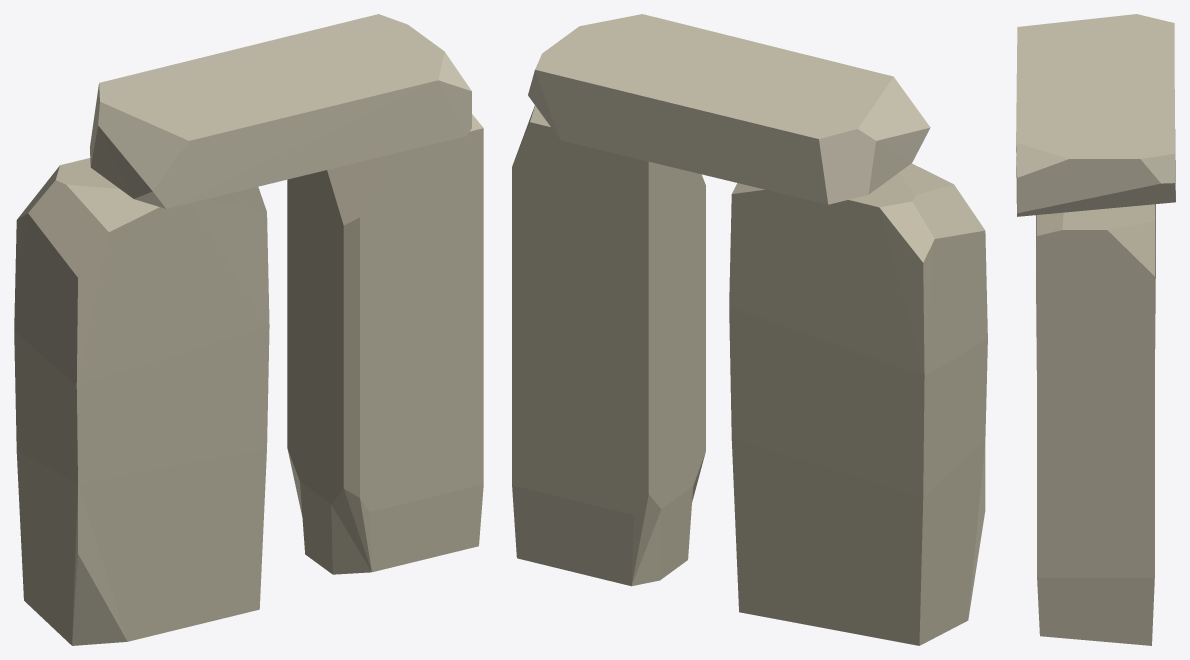
Rendered from Stonehenge_04.fbx.
The picture shows the model from 3 angles, left to right: view 1: azimuth 30°, elevation 25°; view 2: azimuth 150°, elevation 25°; view 3: azimuth 270°, elevation 25°; orthographic projection. The views are drawn at different scales.
Parts seen in each view (by area): view 1: Stonehenge_04; view 2: Stonehenge_04; view 3: Stonehenge_04.
Boxes of the visible parts, <box> form: Stonehenge_04: <box>14,14,483,645</box>; Stonehenge_04: <box>512,14,987,645</box>; Stonehenge_04: <box>1016,14,1175,645</box>.
Bounding box in the file's own units: 4.02 × 4.69 × 1.42.
